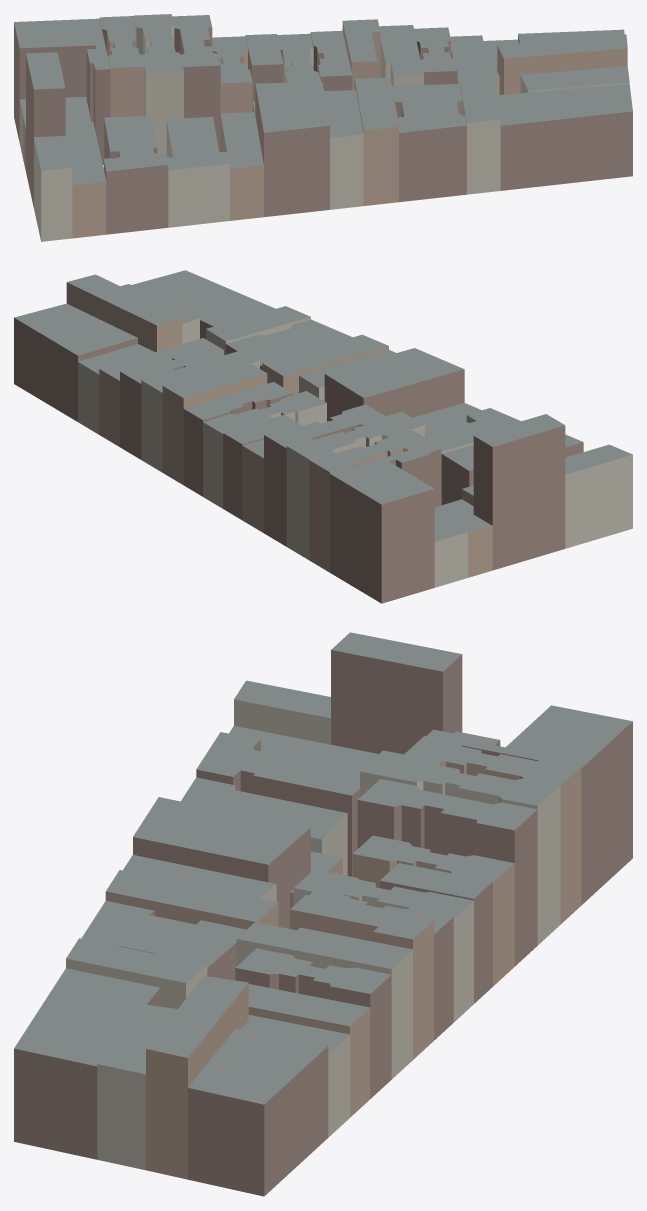
3 views of the same model, one above another, from view 1: azimuth 30°, elevation 25°; view 2: azimuth 150°, elevation 25°; view 3: azimuth 270°, elevation 25° (orthographic). The views are drawn at different scales.
Visible parts, largest first — view 1: C1; view 2: C1; view 3: C1.
Boxes of the visible parts, x1,y1,x2,y2 form: C1: [14, 14, 632, 241]; C1: [14, 270, 632, 603]; C1: [14, 632, 632, 1196].
Bounding box in the file's own units: 148 × 28.58 × 93.79.
